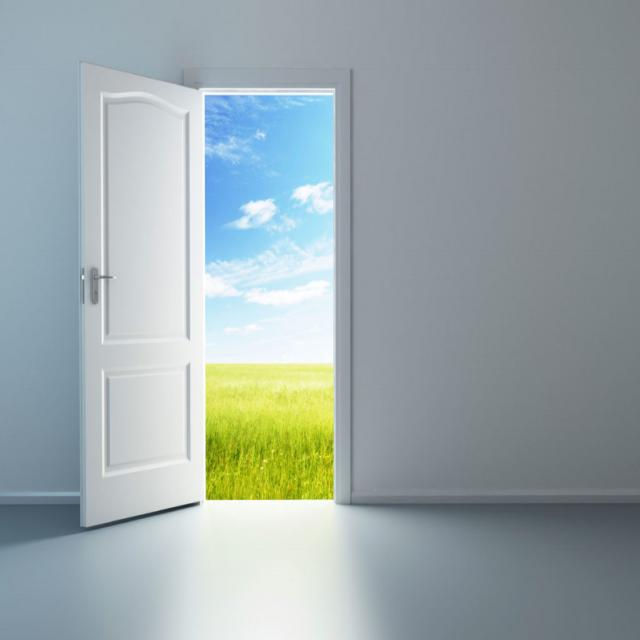open: (78, 64, 350, 530)
